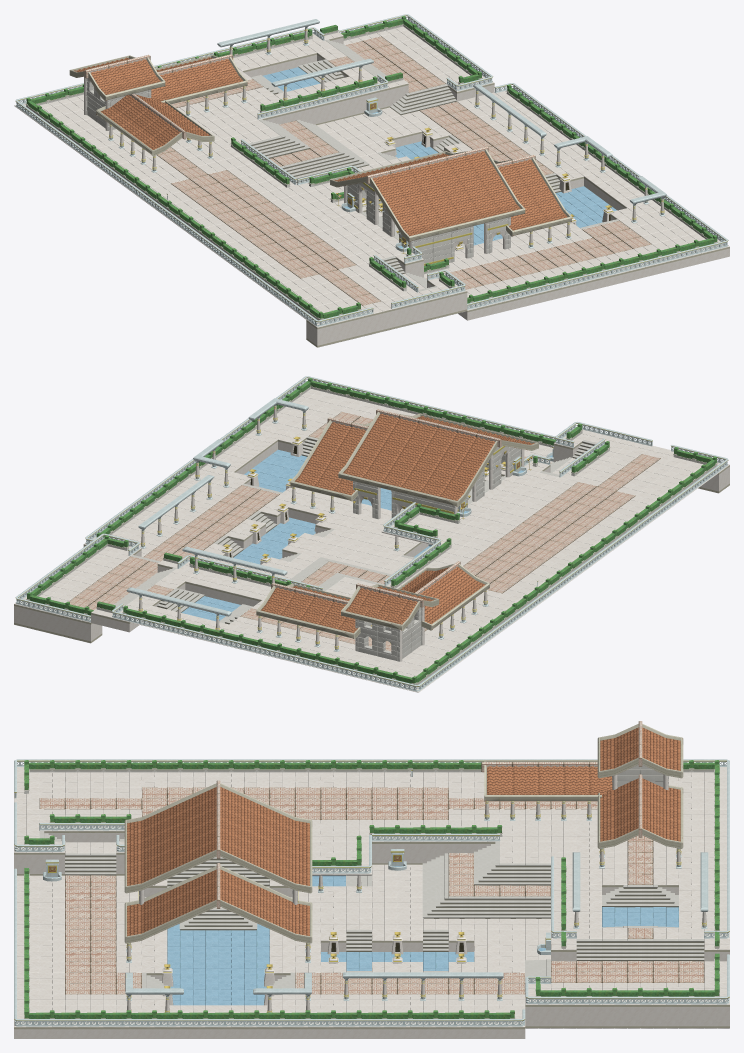
The model's file is Ancient_Bath_House_-_Modular_Set.glb.
3 renders of one model, top to bottom at view 1: azimuth 30°, elevation 25°; view 2: azimuth 150°, elevation 25°; view 3: azimuth 270°, elevation 25°, orthographic. The views are drawn at different scales.
Visible parts, largest first — view 1: Scene_M_Marble_0, Scene_M_TrimSheet_0 (×2), Scene_M_FloorPattern_0, Scene_M_RoofTile_0, Scene_M_TrimSmall_0; view 2: Scene_M_TrimSheet_0 (×2), Scene_M_Marble_0, Scene_M_FloorPattern_0, Scene_M_RoofTile_0, Scene_M_TrimSmall_0; view 3: Scene_M_Marble_0, Scene_M_TrimSheet_0 (×2), Scene_M_FloorPattern_0, Scene_M_RoofTile_0, Scene_M_TrimSmall_0.
Part boxes in pixels (<box>): Scene_M_Marble_0: <box>14,26,729,347</box>; Scene_M_TrimSheet_0 (×2): <box>15,14,729,347</box>; Scene_M_FloorPattern_0: <box>84,36,651,305</box>; Scene_M_RoofTile_0: <box>74,57,567,236</box>; Scene_M_TrimSmall_0: <box>109,31,664,253</box>; Scene_M_TrimSheet_0 (×2): <box>14,376,729,691</box>; Scene_M_Marble_0: <box>14,389,729,692</box>; Scene_M_FloorPattern_0: <box>68,409,660,651</box>; Scene_M_RoofTile_0: <box>260,414,534,633</box>; Scene_M_TrimSmall_0: <box>139,408,532,646</box>; Scene_M_Marble_0: <box>14,767,729,1038</box>; Scene_M_TrimSheet_0 (×2): <box>14,724,729,1029</box>; Scene_M_FloorPattern_0: <box>39,721,704,994</box>; Scene_M_RoofTile_0: <box>127,727,680,936</box>; Scene_M_TrimSmall_0: <box>24,789,719,1017</box>.
Size of the model in its own units: 0.22 by 0.0433 by 0.28.
6 materials, 5 textured.
